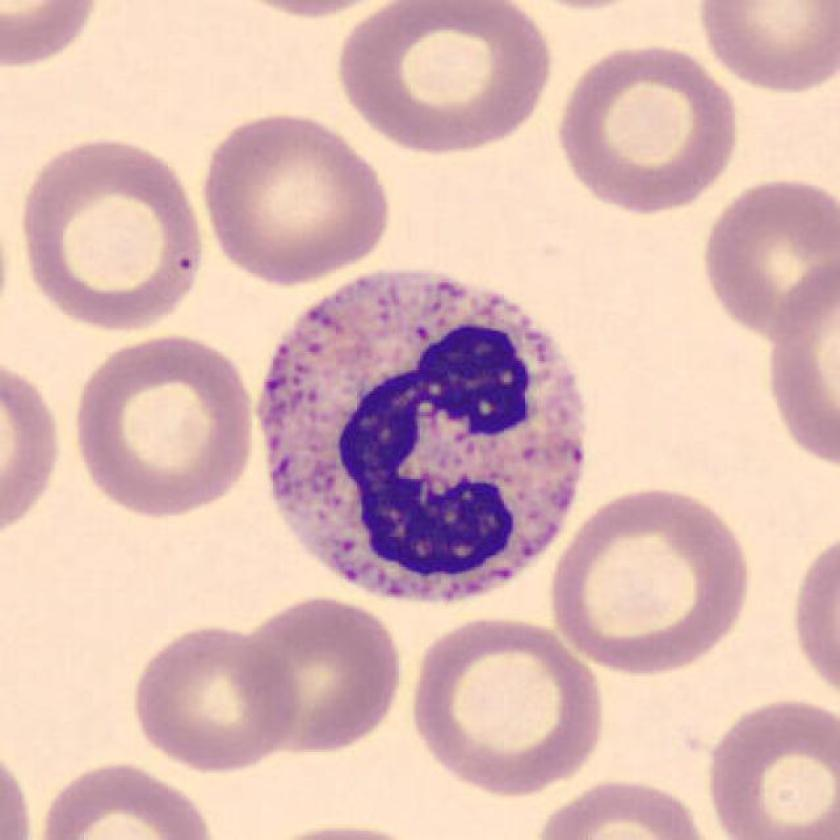neutrophil: (260, 274, 585, 600)
